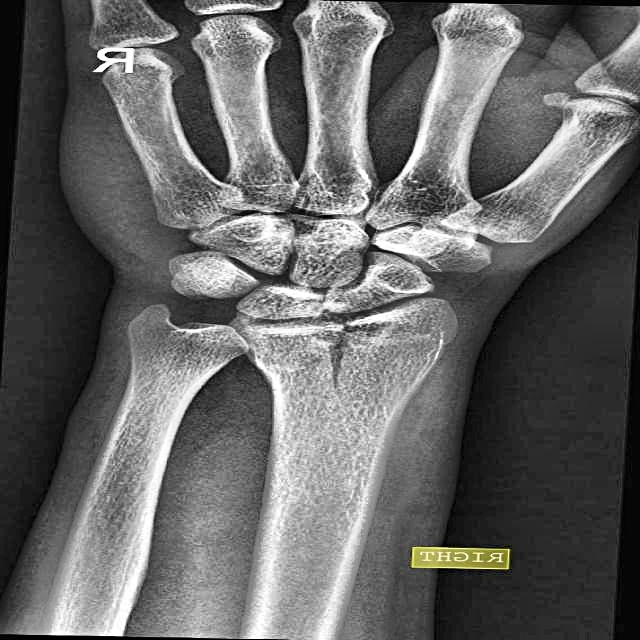Linear: (283, 309, 379, 403)
